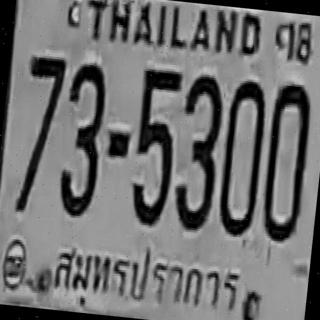N00: (258, 80, 314, 243), (216, 78, 268, 237)
N03: (171, 72, 226, 233), (55, 60, 109, 218)
N05: (128, 66, 182, 227)
N07: (13, 54, 67, 213), (20, 54, 66, 164), (21, 54, 66, 151)
P57: (43, 230, 248, 320)
